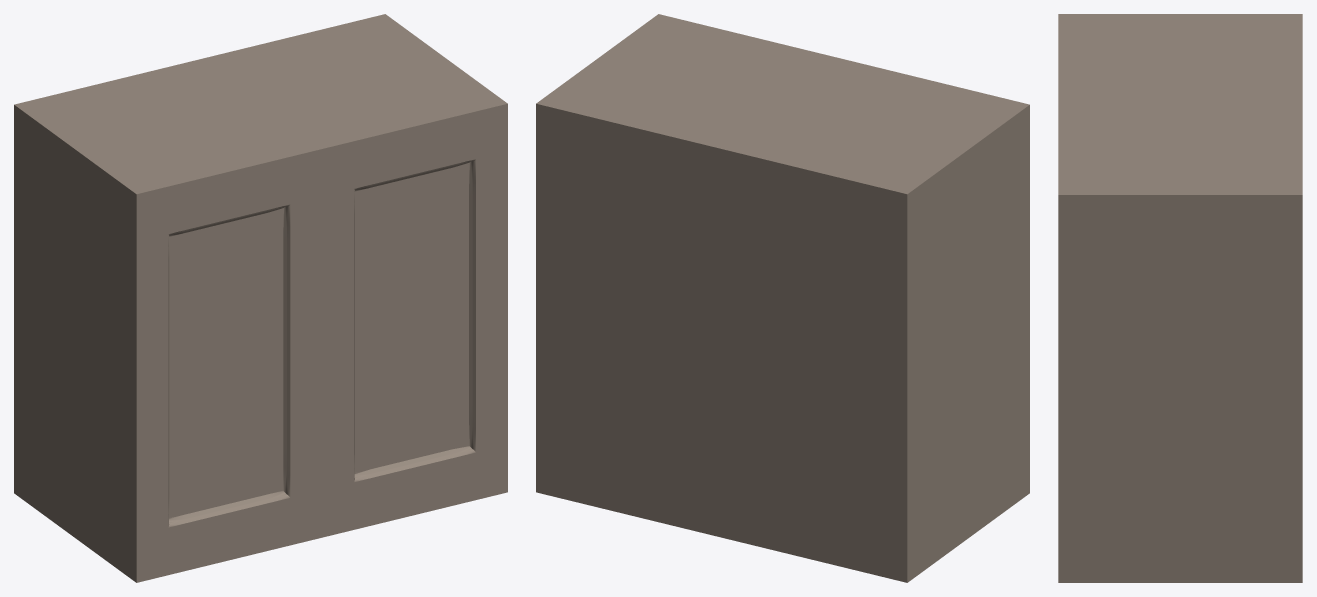
Rendered from Wall-Cabinet-21-High-12-Deep_std_001_W21in.glb.
The picture shows the model from 3 angles, left to right: view 1: azimuth 30°, elevation 25°; view 2: azimuth 150°, elevation 25°; view 3: azimuth 270°, elevation 25°; orthographic projection.
Parts seen in each view (by area): view 1: Wall-Cabinet-21-High-12-Deep.std.001_W21in; view 2: Wall-Cabinet-21-High-12-Deep.std.001_W21in; view 3: Wall-Cabinet-21-High-12-Deep.std.001_W21in.
Part boxes in pixels (<box>): Wall-Cabinet-21-High-12-Deep.std.001_W21in: <box>14,14,507,582</box>; Wall-Cabinet-21-High-12-Deep.std.001_W21in: <box>536,14,1029,582</box>; Wall-Cabinet-21-High-12-Deep.std.001_W21in: <box>1058,14,1302,582</box>.
Bounding box in the file's own units: 0.5334 × 0.5334 × 0.3048.
